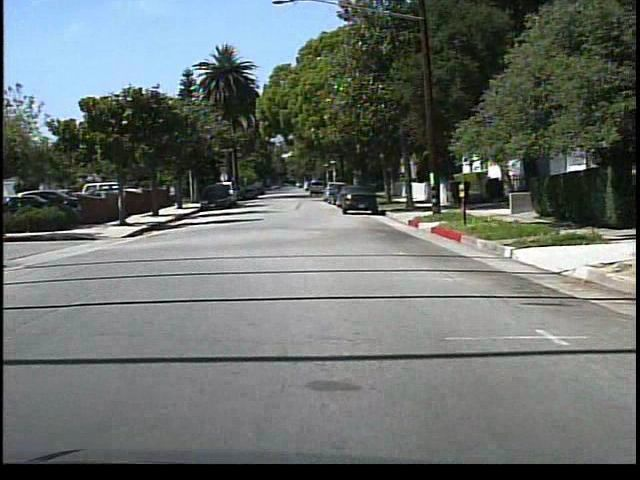person: (168, 181, 182, 208)
